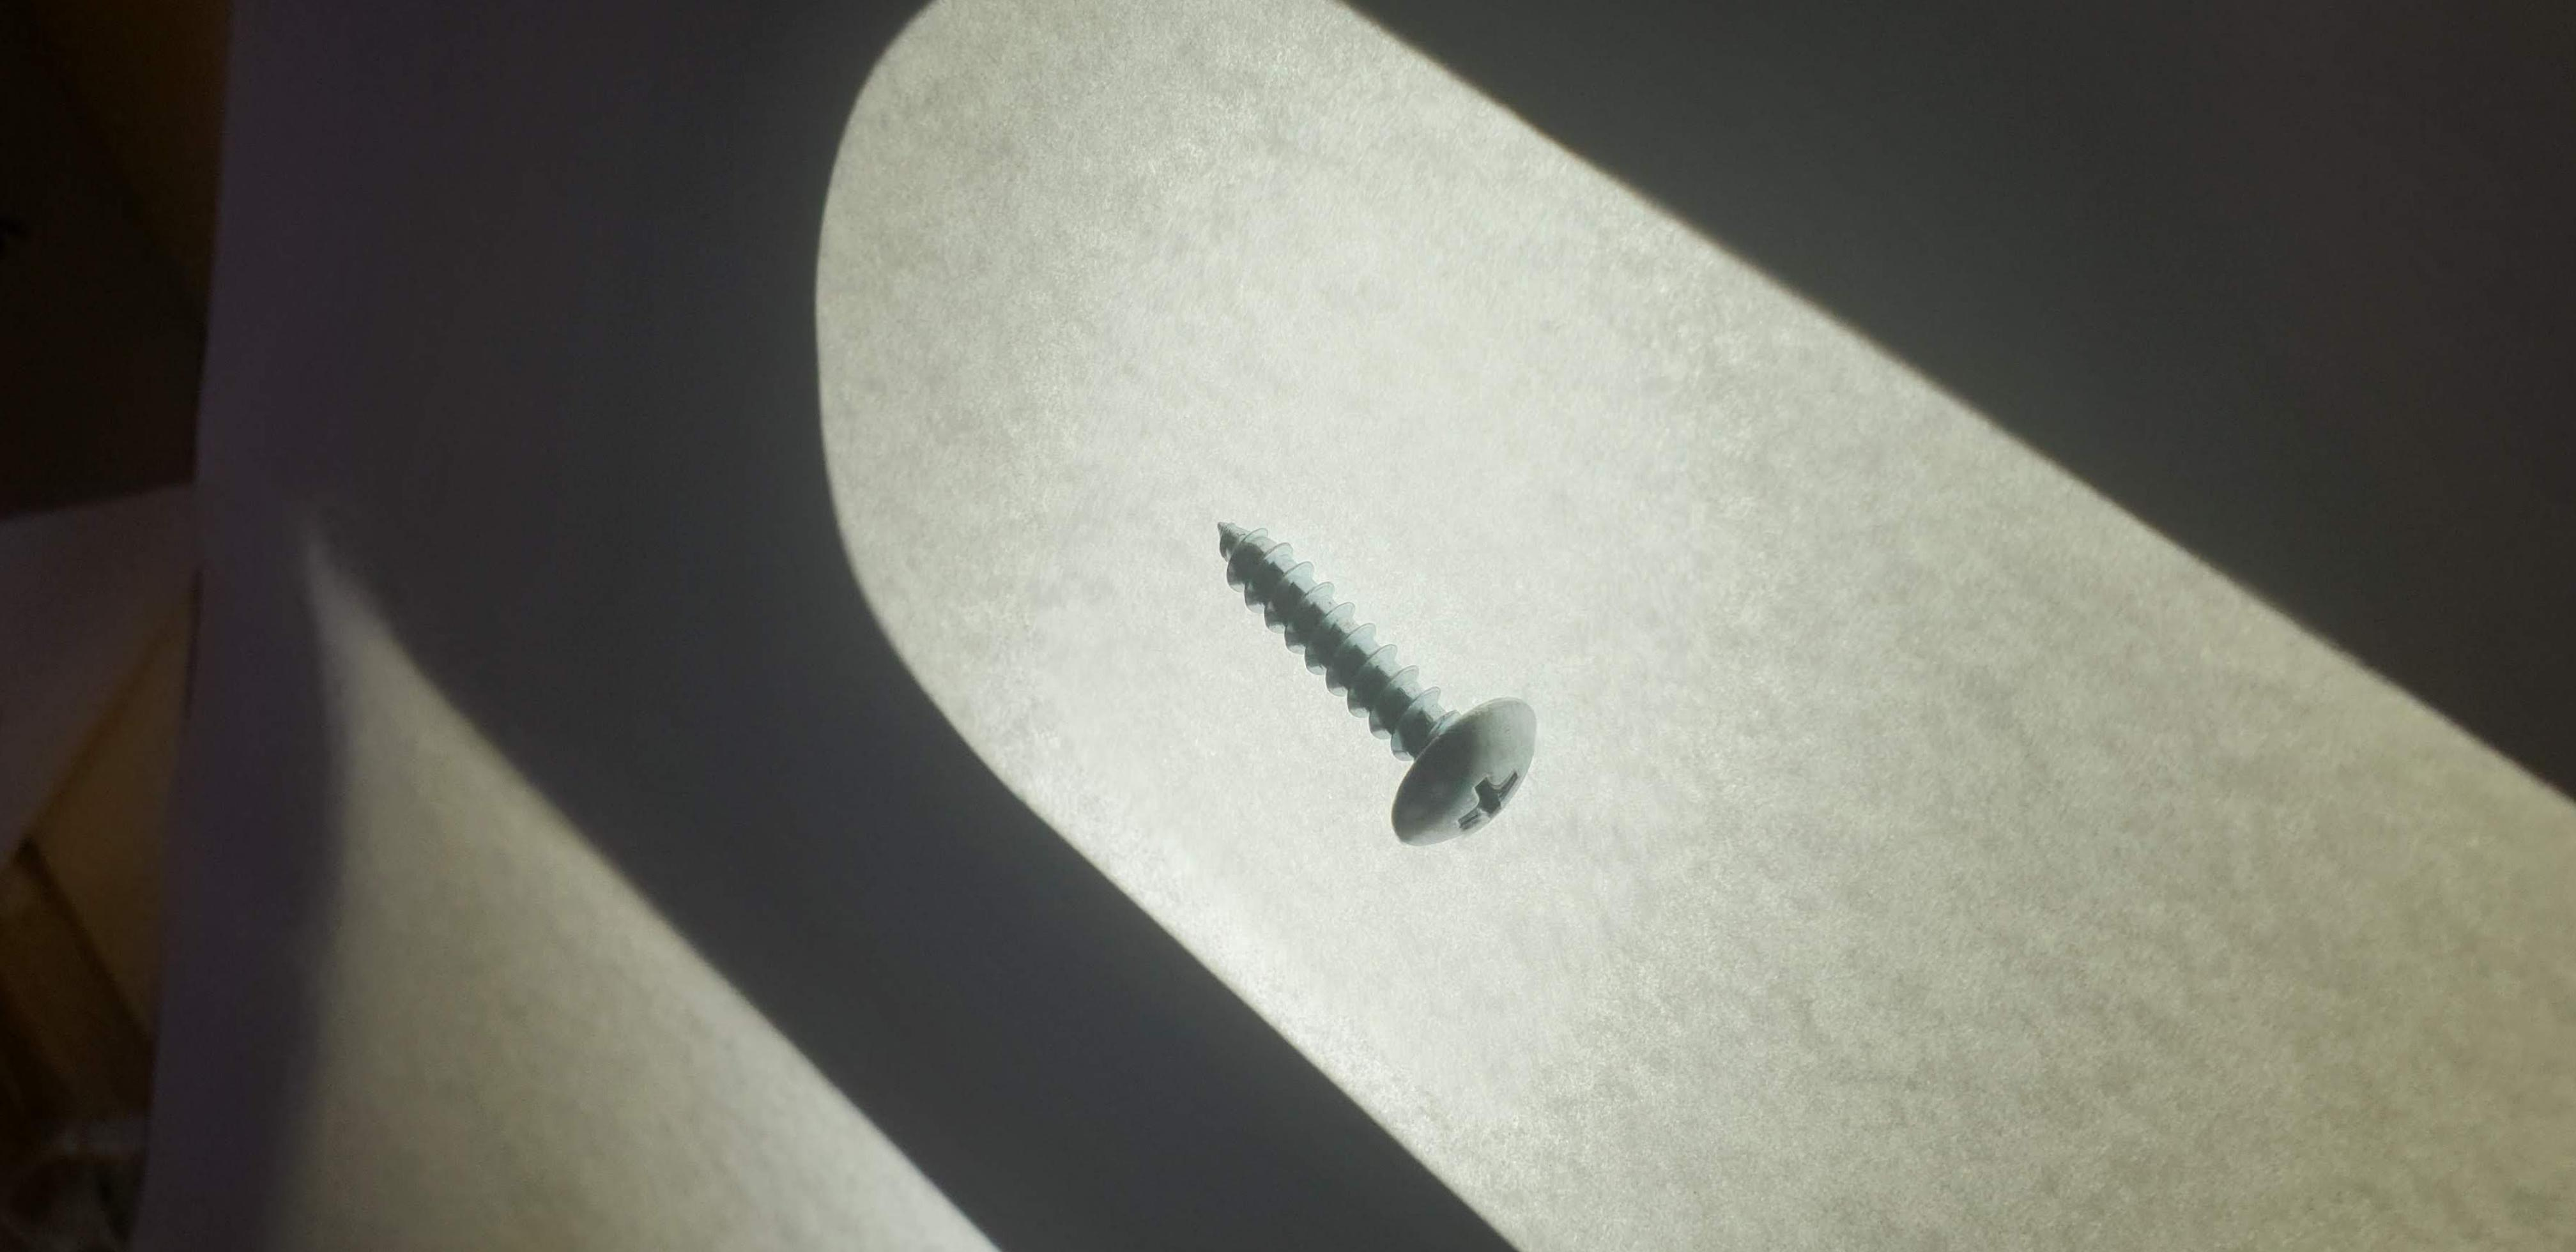S002: (1147, 491, 1603, 881)
